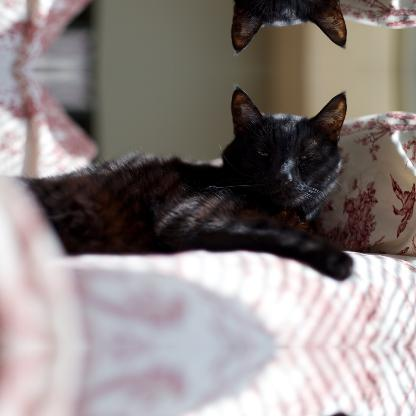Cat: (14, 81, 354, 283), (14, 0, 355, 58)
